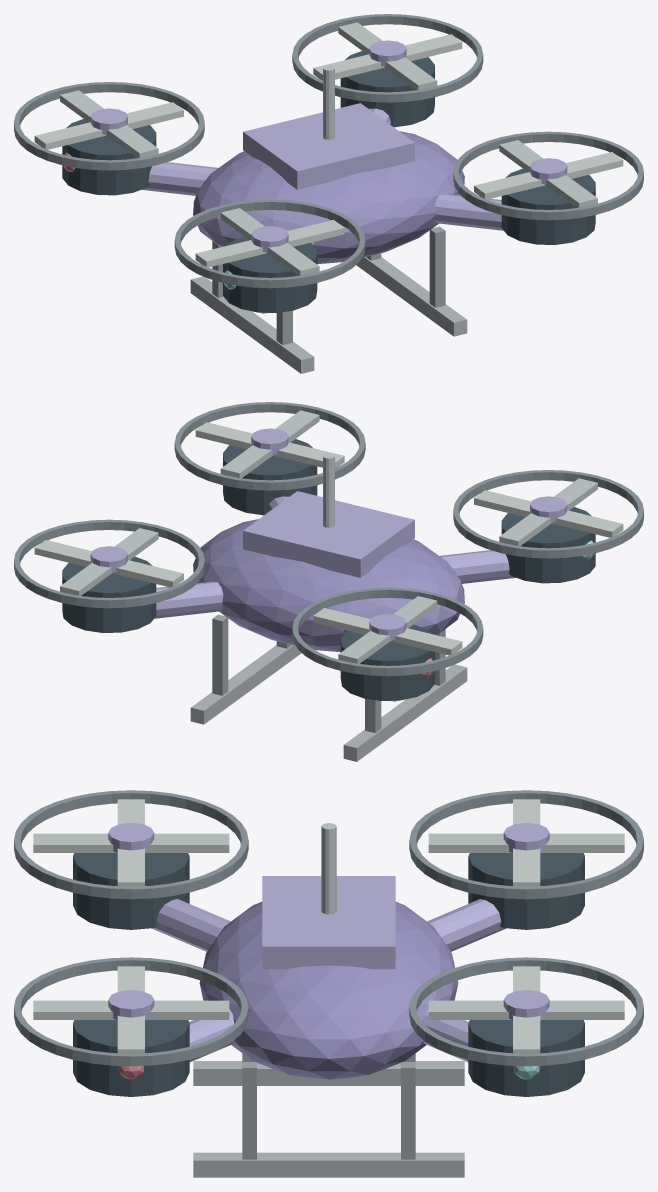
The model's file is survey.glb.
3 views of the same model, one above another, from view 1: azimuth 30°, elevation 25°; view 2: azimuth 150°, elevation 25°; view 3: azimuth 270°, elevation 25° (orthographic). The views are drawn at different scales.
Parts seen in each view (by area): view 1: survey_body, survey_topdeck, rotor_guard_1, rotor_guard_0, rotor_guard_2, rotor_guard_3, motor_0, motor_1, motor_2, motor_3, landing_skid_-1, landing_skid_1 (+17 smaller); view 2: survey_body, survey_topdeck, rotor_guard_2, rotor_guard_3, rotor_guard_1, rotor_guard_0, motor_3, motor_2, motor_1, motor_0, landing_skid_-1, landing_skid_1 (+17 smaller); view 3: survey_body, survey_topdeck, landing_skid_1, rotor_guard_0, rotor_guard_3, rotor_guard_1, rotor_guard_2, motor_0, motor_3, motor_1, motor_2, landing_skid_-1 (+19 smaller).
Part boxes in pixels (bbox=[...]): survey_body: bbox=[193, 131, 464, 264]; survey_topdeck: bbox=[243, 103, 414, 189]; rotor_guard_1: bbox=[174, 199, 365, 288]; rotor_guard_0: bbox=[453, 131, 643, 220]; rotor_guard_2: bbox=[14, 82, 204, 170]; rotor_guard_3: bbox=[292, 14, 483, 102]; motor_0: bbox=[501, 168, 595, 244]; motor_1: bbox=[223, 236, 317, 312]; motor_2: bbox=[62, 119, 156, 195]; motor_3: bbox=[340, 51, 434, 127]; landing_skid_-1: bbox=[190, 276, 314, 373]; landing_skid_1: bbox=[356, 257, 467, 336]; survey_body: bbox=[193, 519, 464, 652]; survey_topdeck: bbox=[243, 491, 414, 577]; rotor_guard_2: bbox=[292, 587, 483, 676]; rotor_guard_3: bbox=[14, 519, 204, 608]; rotor_guard_1: bbox=[453, 470, 643, 558]; rotor_guard_0: bbox=[174, 402, 365, 490]; motor_3: bbox=[62, 556, 156, 632]; motor_2: bbox=[340, 624, 434, 700]; motor_1: bbox=[501, 507, 595, 583]; motor_0: bbox=[223, 439, 317, 515]; landing_skid_-1: bbox=[343, 664, 467, 761]; landing_skid_1: bbox=[190, 645, 301, 724]; survey_body: bbox=[199, 902, 458, 1079]; survey_topdeck: bbox=[262, 876, 395, 969]; landing_skid_1: bbox=[193, 1152, 464, 1177]; rotor_guard_0: bbox=[14, 957, 248, 1066]; rotor_guard_3: bbox=[409, 957, 643, 1066]; rotor_guard_1: bbox=[14, 790, 248, 899]; rotor_guard_2: bbox=[409, 790, 643, 899]; motor_0: bbox=[73, 1020, 189, 1096]; motor_3: bbox=[468, 1020, 584, 1096]; motor_1: bbox=[73, 853, 189, 929]; motor_2: bbox=[468, 853, 584, 929]; landing_skid_-1: bbox=[193, 1061, 464, 1085].
Bounding box in the file's own units: 1.39 × 0.7337 × 1.39.
